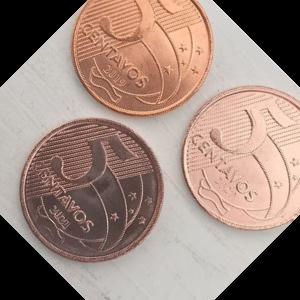5 cent: (18, 116, 164, 262), (181, 84, 299, 230), (70, 0, 213, 116)
